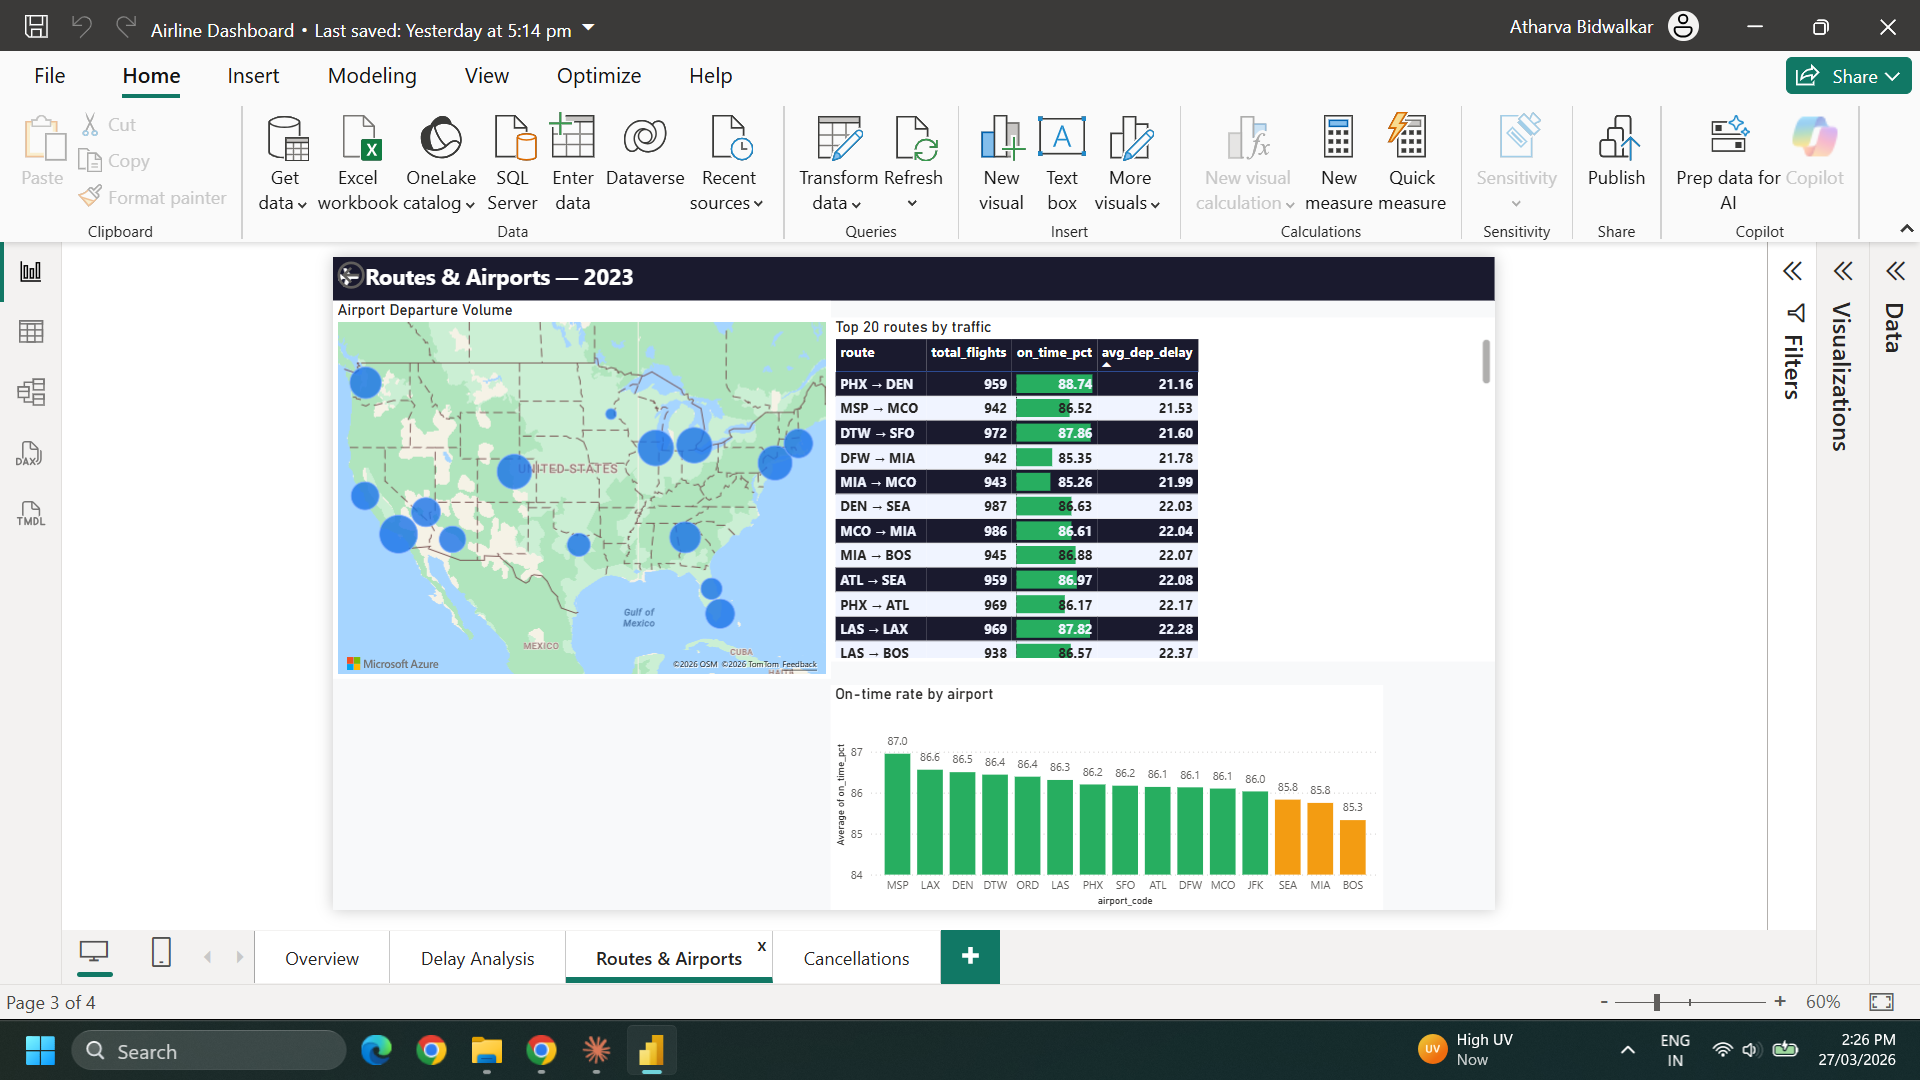

What the dashboard file says about the page in this screenshot:
{"tool":"powerbi","page":{"name":"Routes & Airports","canvas":[1280,720],"ordinal":2},"visuals":[{"type":"shape","box":[0,0,1280,48],"z":0},{"type":"textbox","box":[0,0,460,48],"z":1000},{"type":"azureMap","title":"Airport Departure Volume","fields":{"Category":["Dim_Airport.airport_code"],"Y":["Avg(Dim_Airport.lat)"],"X":["Avg(Dim_Airport.lon)"],"Size":["Sum(Fact_Airport_Performance.total_departures)"]},"box":[0,48,548,416],"z":2000},{"type":"tableEx","title":"Top 20 routes by traffic","fields":{"Values":["Fact_Route_Performance.route","Fact_Route_Performance.total_flights","Fact_Route_Performance.on_time_pct","Fact_Route_Performance.avg_dep_delay"]},"box":[548,67,732,379],"z":3000},{"type":"actionButton","box":[0,0,100,40],"z":4000},{"type":"clusteredColumnChart","title":"On-time rate by airport","fields":{"Y":["Avg(Fact_Airport_Performance.on_time_pct)"],"Category":["Fact_Airport_Performance.airport_code"]},"box":[548,471,609,249],"z":5000}]}

Visuals, with their boxes on the page's 1280x720 design canvas (x1, y1, x2, y2). These are canvas units, not pixel positions in the 1920x1080 screenshot, which may show the page scaled, cropped or inside an application window:
shape: x1=0, y1=0, x2=1280, y2=48
textbox: x1=0, y1=0, x2=460, y2=48
"Airport Departure Volume" azureMap: x1=0, y1=48, x2=548, y2=464
"Top 20 routes by traffic" tableEx: x1=548, y1=67, x2=1280, y2=446
actionButton: x1=0, y1=0, x2=100, y2=40
"On-time rate by airport" clusteredColumnChart: x1=548, y1=471, x2=1157, y2=720
